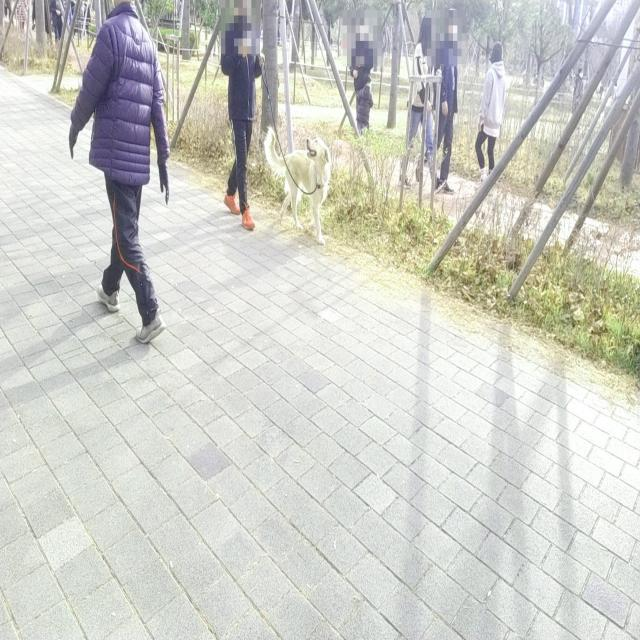Leashed_Dog: (242, 54, 332, 245)
